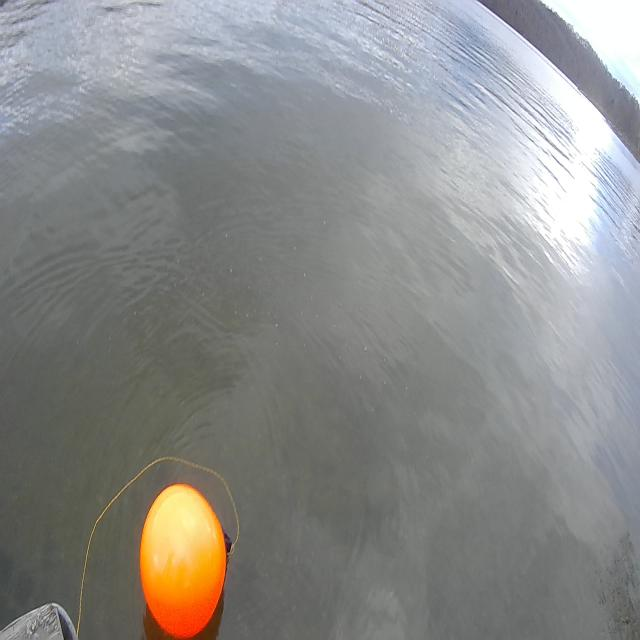Buoy: (137, 479, 230, 640)
